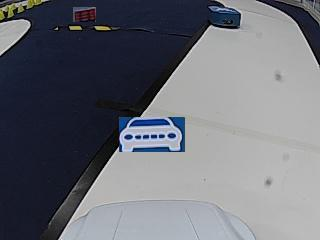prop: (209, 6, 240, 28)
